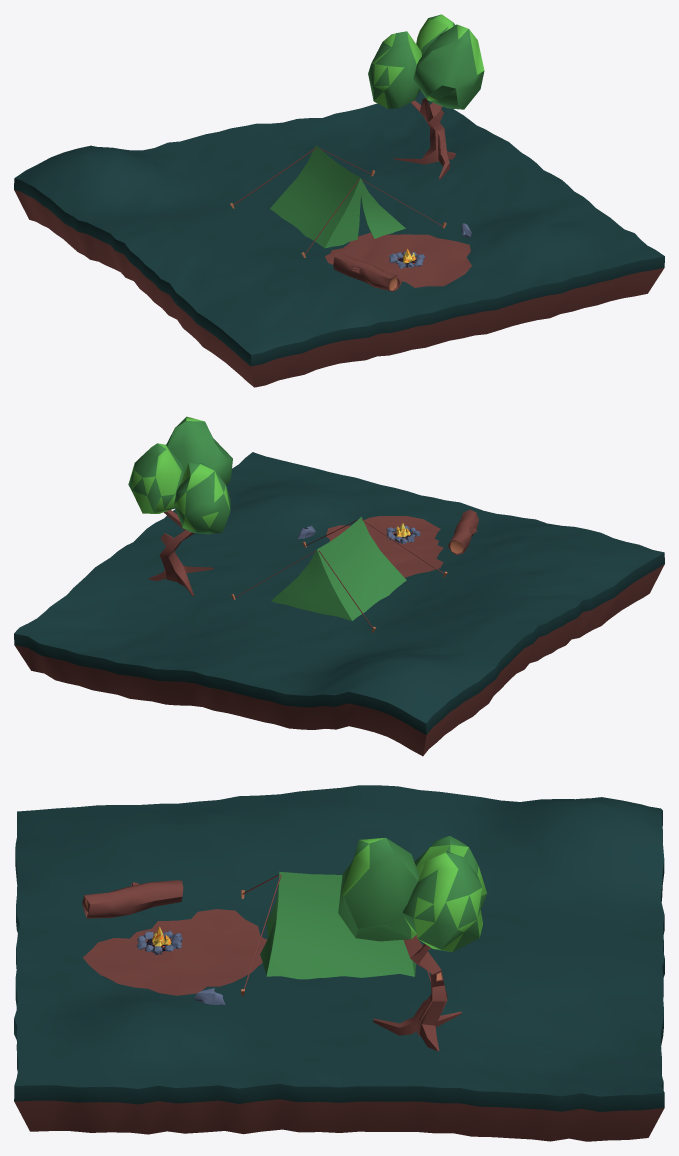
The picture shows the model from 3 angles, top to bottom: view 1: azimuth 30°, elevation 25°; view 2: azimuth 150°, elevation 25°; view 3: azimuth 270°, elevation 25°; orthographic projection. The views are drawn at different scales.
Visible parts, largest first — view 1: camping_0; view 2: camping_0; view 3: camping_0.
Boxes of the visible parts, x1,y1,x2,y2 form: camping_0: (14,14,664,387); camping_0: (14,416,664,756); camping_0: (14,785,664,1141).
Size of the model in its own units: 13.34 by 6.22 by 13.33.
1 material, 1 textured.
